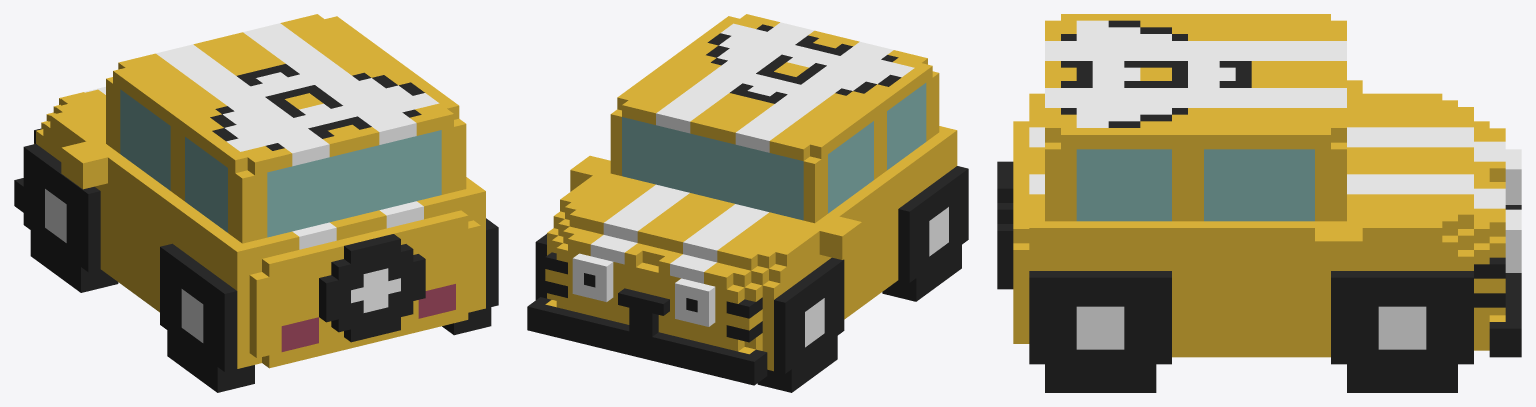
File: car.glb
The picture shows the model from 3 angles, left to right: view 1: azimuth 30°, elevation 25°; view 2: azimuth 150°, elevation 25°; view 3: azimuth 270°, elevation 25°; orthographic projection. The views are drawn at different scales.
Parts seen in each view (by area): view 1: ObjObject; view 2: ObjObject; view 3: ObjObject.
Part boxes in pixels (x1,y1,x2,y2): ObjObject: (14, 14, 498, 392); ObjObject: (527, 14, 968, 392); ObjObject: (997, 14, 1521, 392).
Size of the model in its own units: 2.4 by 1.7 by 3.3.
Materials: 1 (1 with a texture image).
